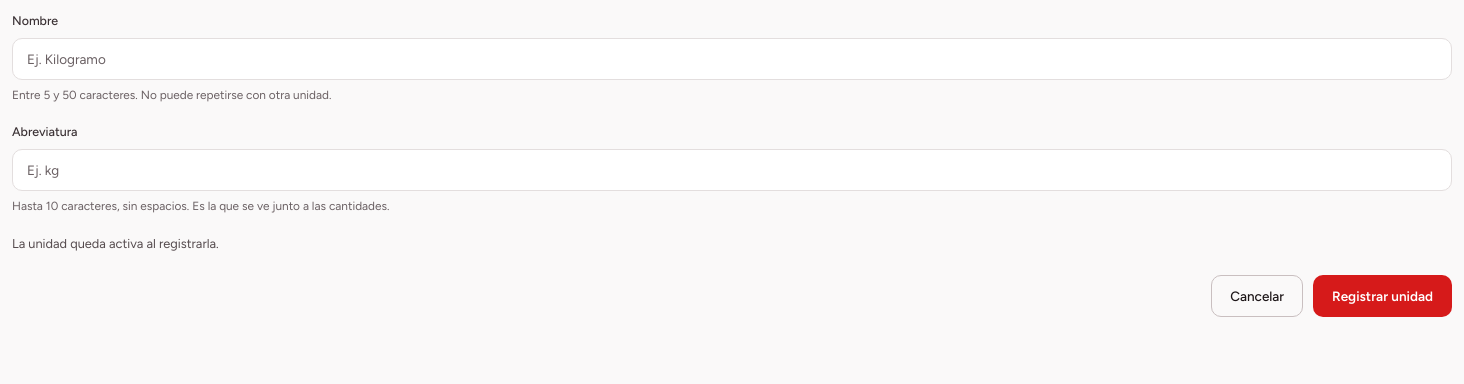
Scenario: CreateUnitForm › asks for both fields
The width and height of the screenshot is (1464, 384).
Step 1. Click the button "Registrar unidad" → (1383, 296), box [1313,275,1452,317]
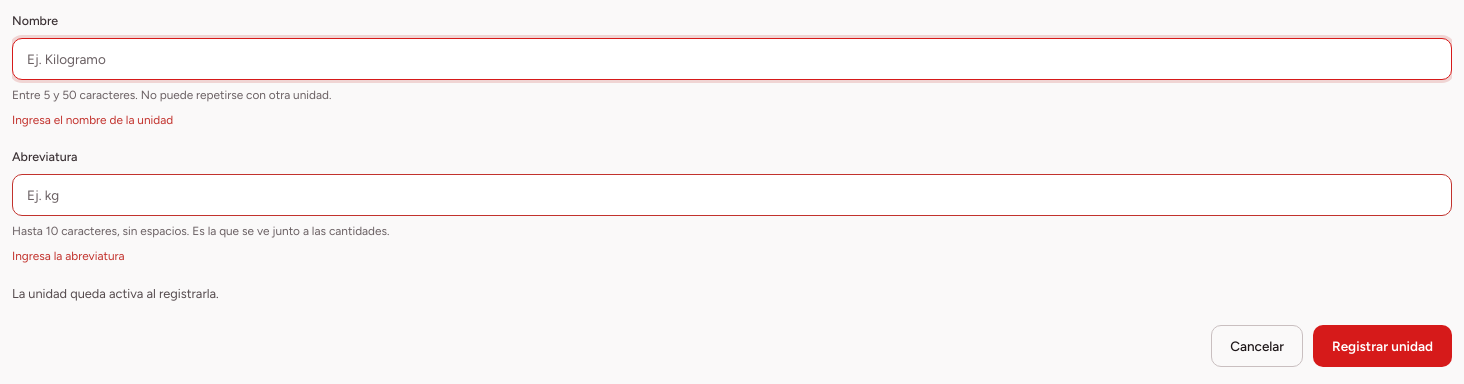
Now the text "Ingresa el nombre de la unidad" is shown, box [12,113,173,127]
Now the text "Ingresa la abreviatura" is shown, box [12,249,124,263]
